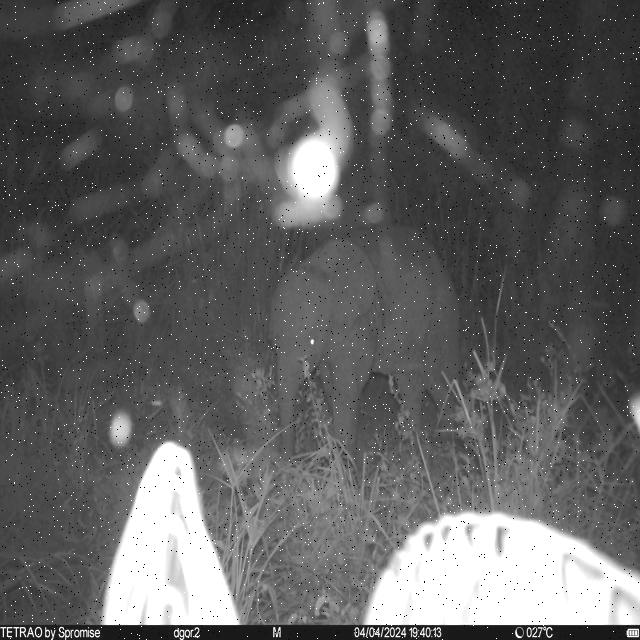calf: (268, 224, 466, 470)
ear: (312, 240, 378, 349)
